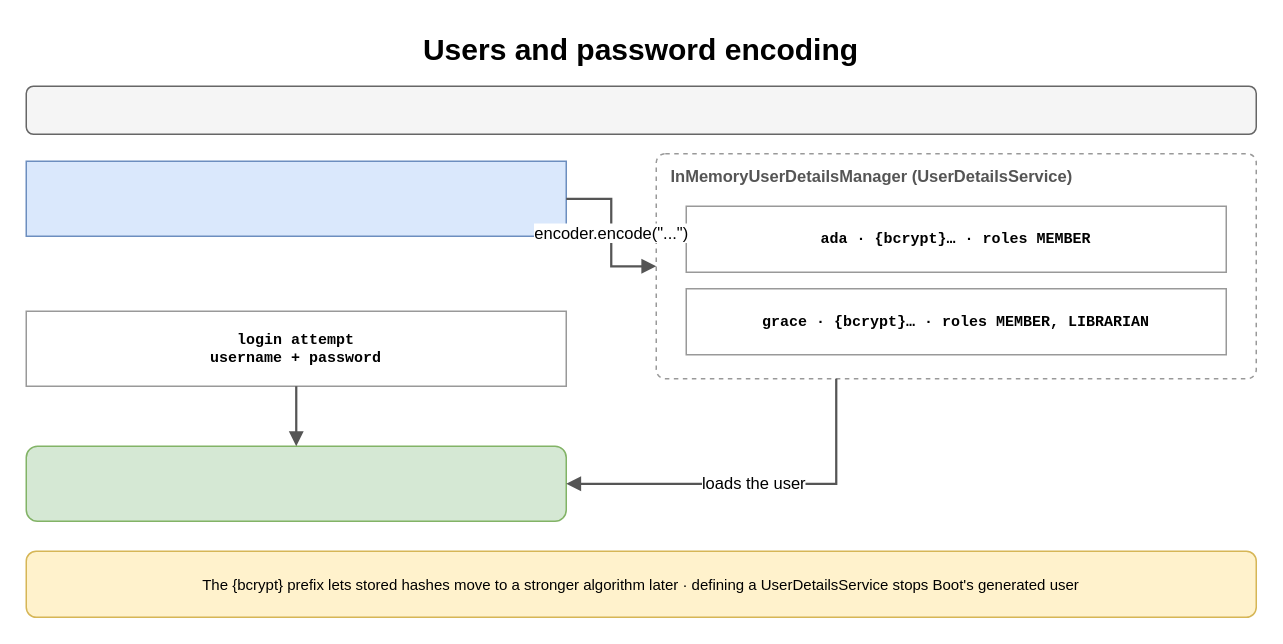
Some shapes in this 1283 by 644 pixel diagram are drawn without their labels. The centre of each missing label's shape, as x and y in pixels:
PasswordEncoder bean checks the password against the stored hash: [295,483]
PasswordEncoderFactories .createDelegatingPasswordEncoder(): [295,198]
Store only hashes; the encoder prefix records the algorithm: [640,109]
